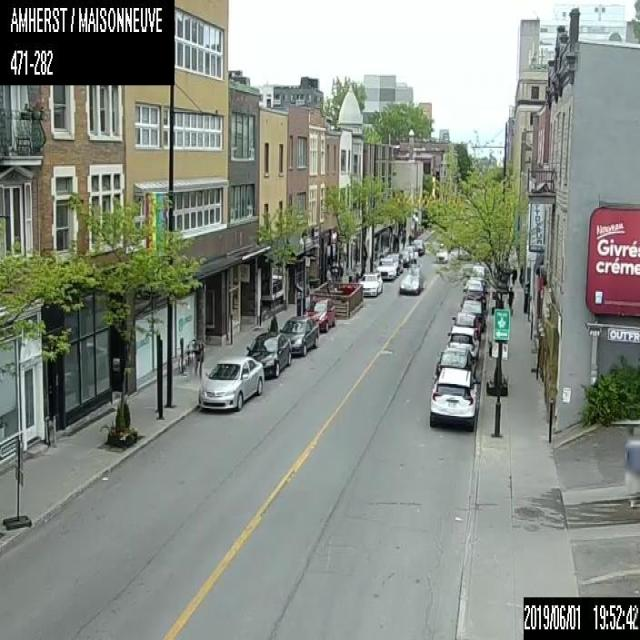pedestrian: (190, 337, 203, 384), (506, 285, 514, 313), (509, 265, 516, 286), (518, 264, 524, 288), (326, 263, 332, 281), (401, 232, 405, 248), (408, 233, 410, 243)
vehicle: (198, 354, 263, 409), (429, 366, 479, 431), (246, 330, 291, 378), (278, 315, 318, 355), (435, 347, 476, 380), (446, 324, 478, 359), (303, 297, 334, 331), (451, 311, 481, 342), (459, 298, 485, 328), (358, 272, 382, 296), (462, 290, 486, 310), (375, 257, 396, 279), (399, 274, 422, 294), (386, 252, 402, 274), (467, 280, 483, 293), (412, 239, 424, 254), (398, 250, 410, 263), (406, 243, 417, 257)
